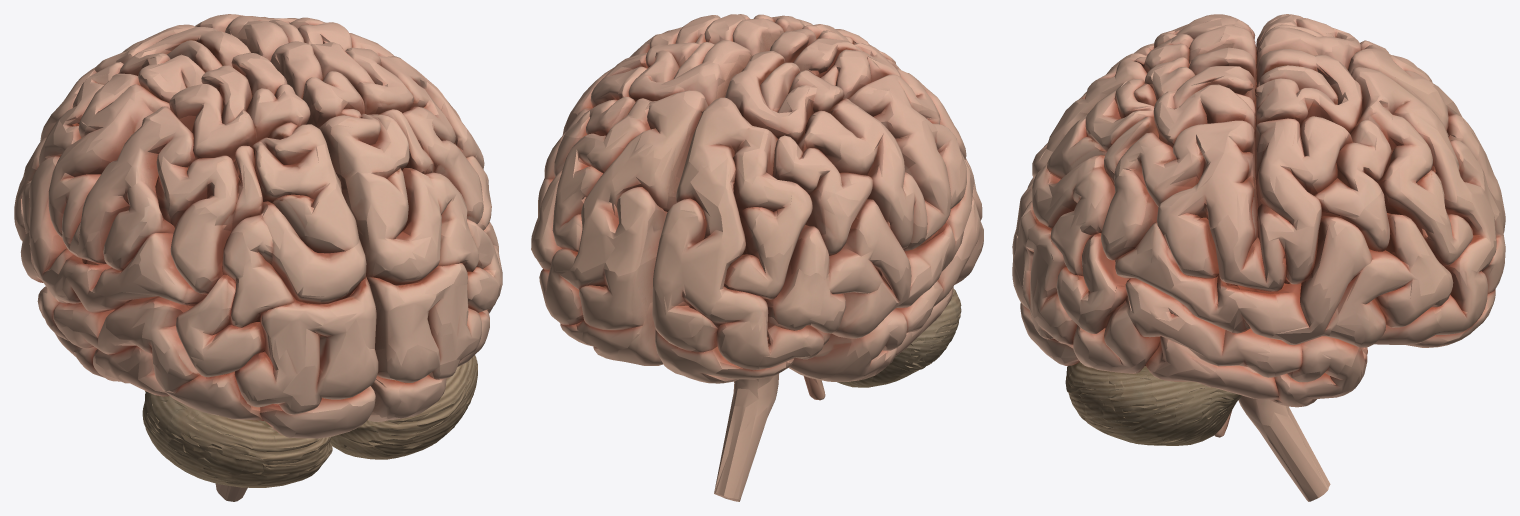
Rendered from brain-53e4d2.glb.
3 views of the same model, side by side, from view 1: azimuth 30°, elevation 25°; view 2: azimuth 150°, elevation 25°; view 3: azimuth 270°, elevation 25° (orthographic). The views are drawn at different scales.
Size of the model in its own units: 1.63 by 1.9 by 1.85.
1 material, 1 textured.
